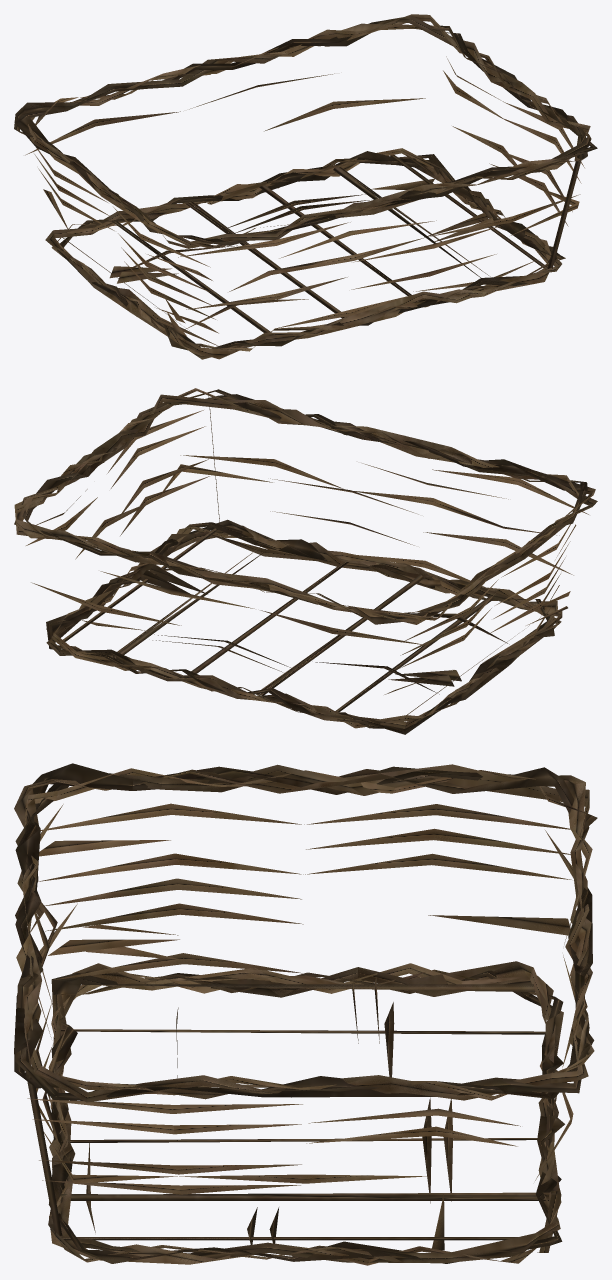
3 views of the same model, one above another, from view 1: azimuth 30°, elevation 25°; view 2: azimuth 150°, elevation 25°; view 3: azimuth 270°, elevation 25° (orthographic). The views are drawn at different scales.
Parts seen in each view (by area): view 1: wicker_basket_01; view 2: wicker_basket_01; view 3: wicker_basket_01.
Part boxes in pixels (x1,y1,x2,y2): wicker_basket_01: (14,14,597,359); wicker_basket_01: (14,388,597,734); wicker_basket_01: (14,763,597,1265).
Bounding box in the file's own units: 0.9966 × 0.3054 × 0.7641.
1 material, 1 textured.
